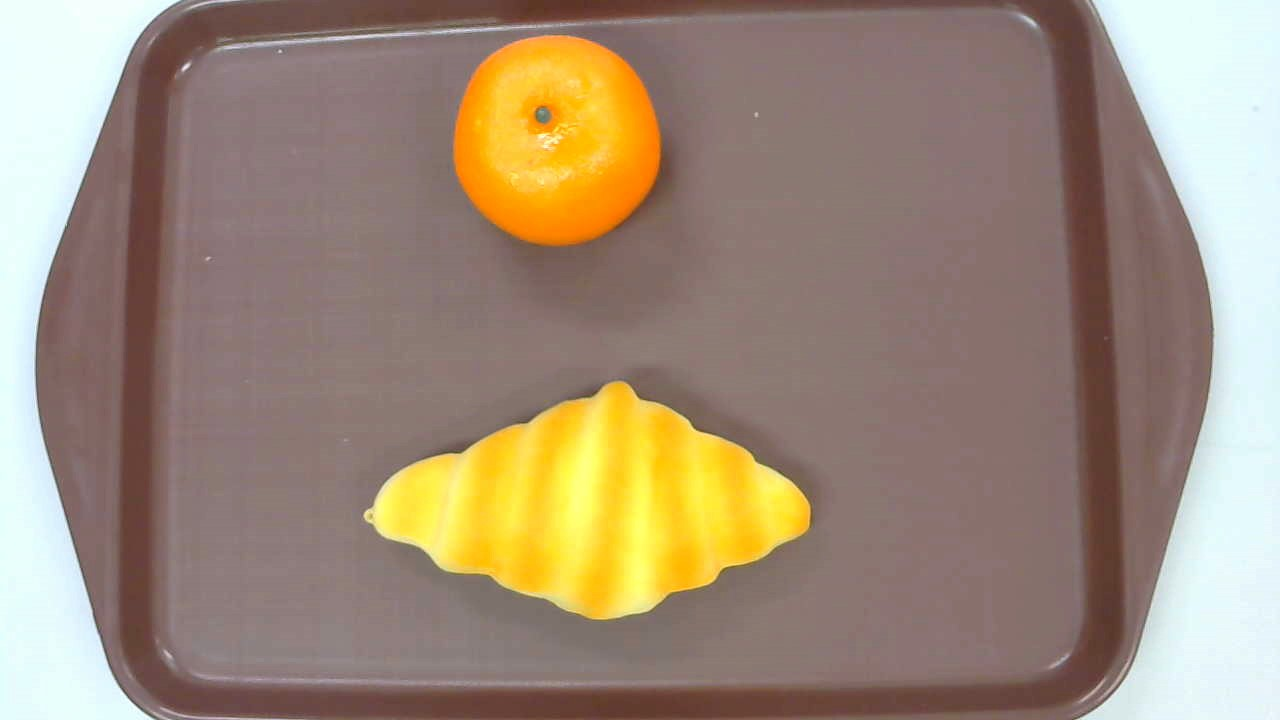croissant: (361, 379, 809, 622)
orange: (452, 35, 661, 247)
